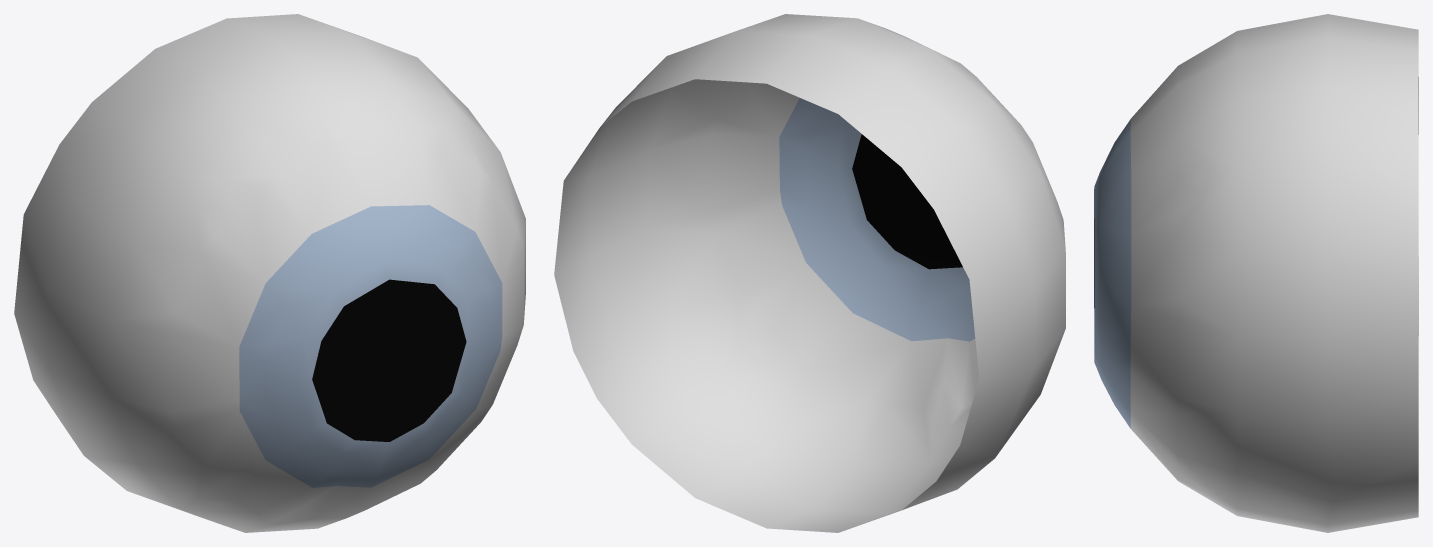
Rendered from icub_eye.dae.
3 views of the same model, side by side, from view 1: azimuth 30°, elevation 25°; view 2: azimuth 150°, elevation 25°; view 3: azimuth 270°, elevation 25° (orthographic).
Parts seen in each view (by area): view 1: eye; view 2: eye; view 3: eye.
Boxes of the visible parts, x1,y1,x2,y2 form: eye: (14,14,525,532); eye: (554,14,1065,532); eye: (1094,14,1418,532).
Size of the model in its own units: 0.0404 by 0.0256 by 0.041.
